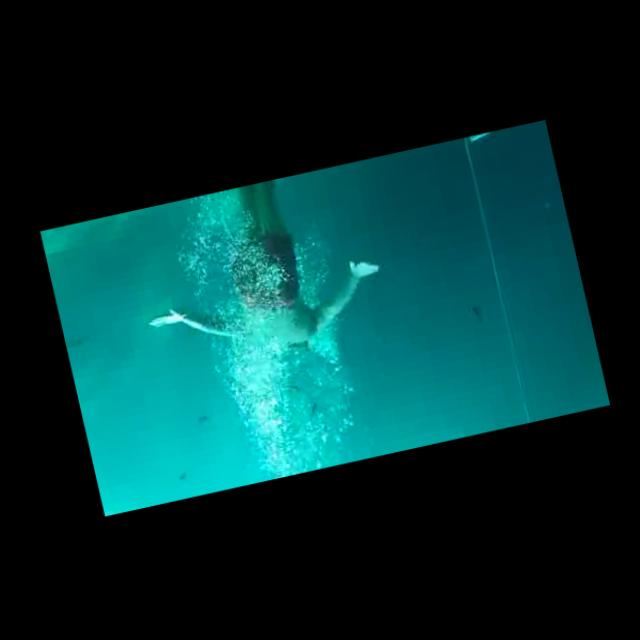human: (116, 161, 401, 402)
